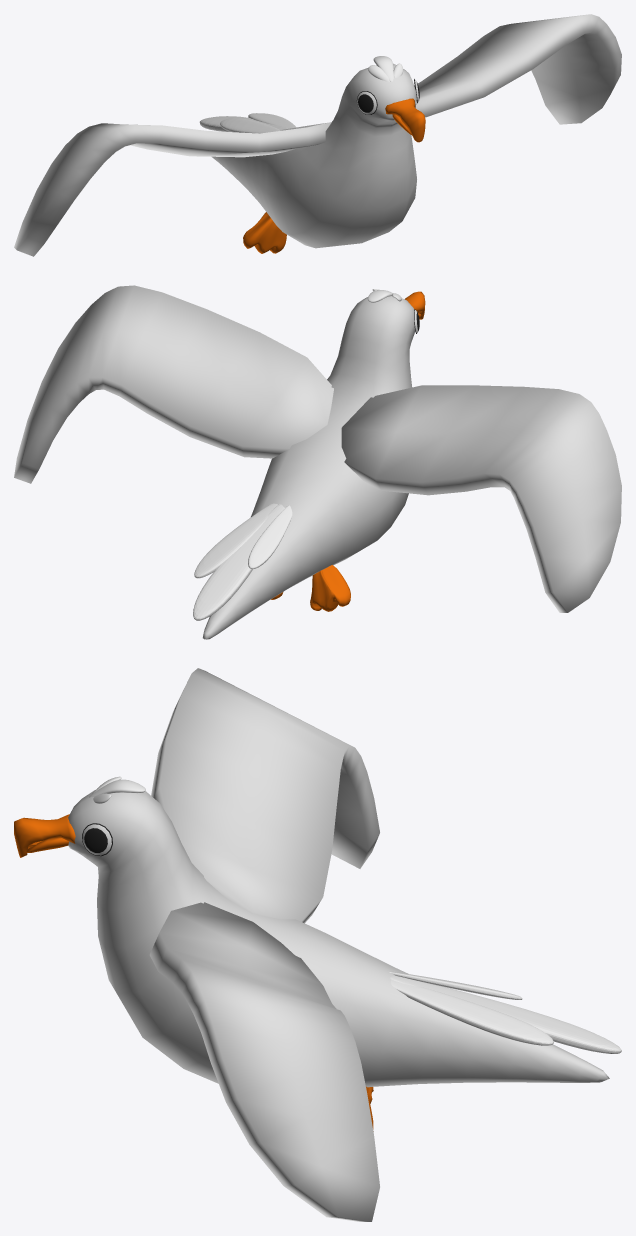
Rendered from Seagull_0.1.fbx.
3 renders of one model, top to bottom at view 1: azimuth 30°, elevation 25°; view 2: azimuth 150°, elevation 25°; view 3: azimuth 270°, elevation 25°, orthographic. The views are drawn at different scales.
Parts seen in each view (by area): view 1: Cube.029, Cube.027, Cube.031, Plane, Cube.028, Cube.030, Circle.004; view 2: Cube.029, Cube.027, Cube.031, Plane; view 3: Cube.029, Cube.027, Cube.031, Cube.028, Circle.004, Cube.030.
Part boxes in pixels (x1,y1,x2,y2): Cube.029: (14,14,621,256); Cube.027: (211,63,416,248); Cube.031: (199,113,296,133); Plane: (243,212,286,253); Cube.028: (385,98,425,142); Cube.030: (368,56,403,81); Circle.004: (356,79,419,114); Cube.029: (14,285,621,612); Cube.027: (202,296,415,639); Cube.031: (193,503,292,620); Plane: (271,565,350,611); Cube.029: (149,668,379,1221); Cube.027: (68,790,609,1087); Cube.031: (389,971,621,1053); Cube.028: (14,814,75,857); Circle.004: (82,823,112,856); Cube.030: (89,776,145,803).
Bounding box in the file's own units: 645 × 265 × 426.
